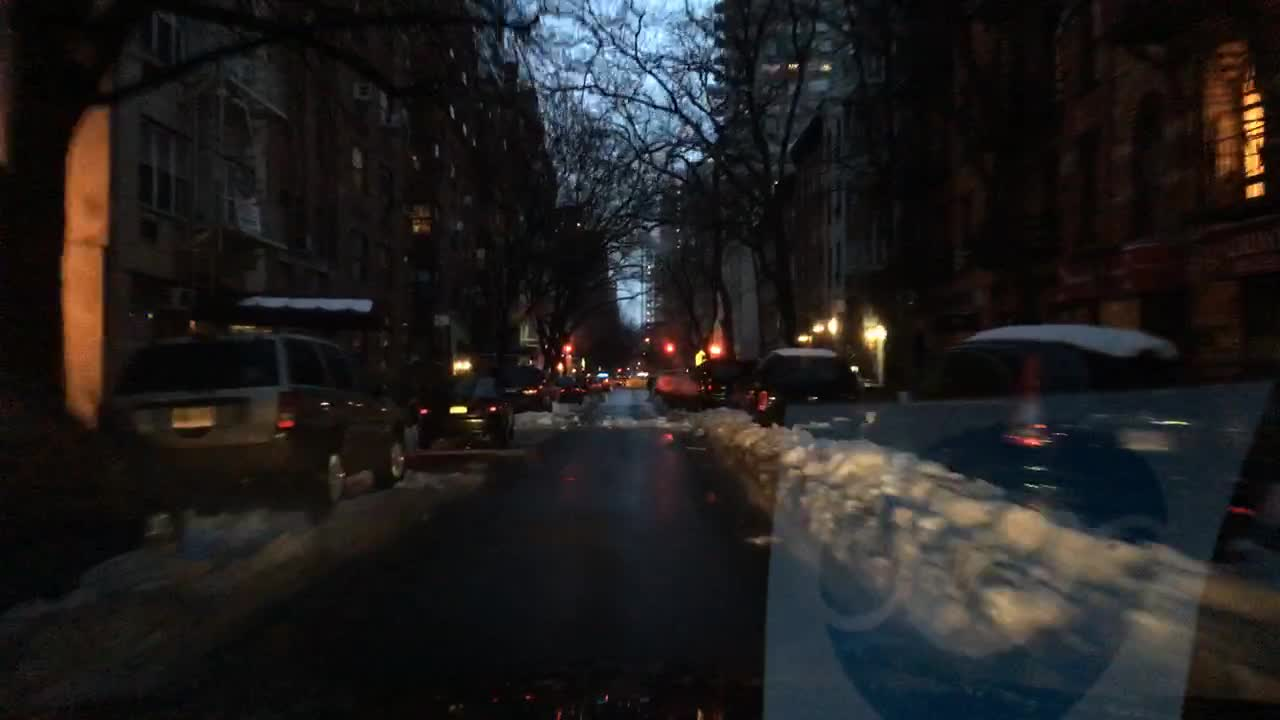car: (859, 322, 1259, 563), (102, 327, 414, 505), (0, 372, 157, 608), (744, 347, 868, 436), (417, 370, 515, 448), (498, 359, 558, 414), (702, 359, 758, 411), (658, 370, 702, 403), (581, 371, 606, 396), (561, 374, 579, 405), (598, 373, 616, 388), (626, 376, 649, 386)
traffic sign: (693, 347, 707, 365), (665, 340, 675, 356), (561, 342, 570, 359), (618, 365, 621, 377)
